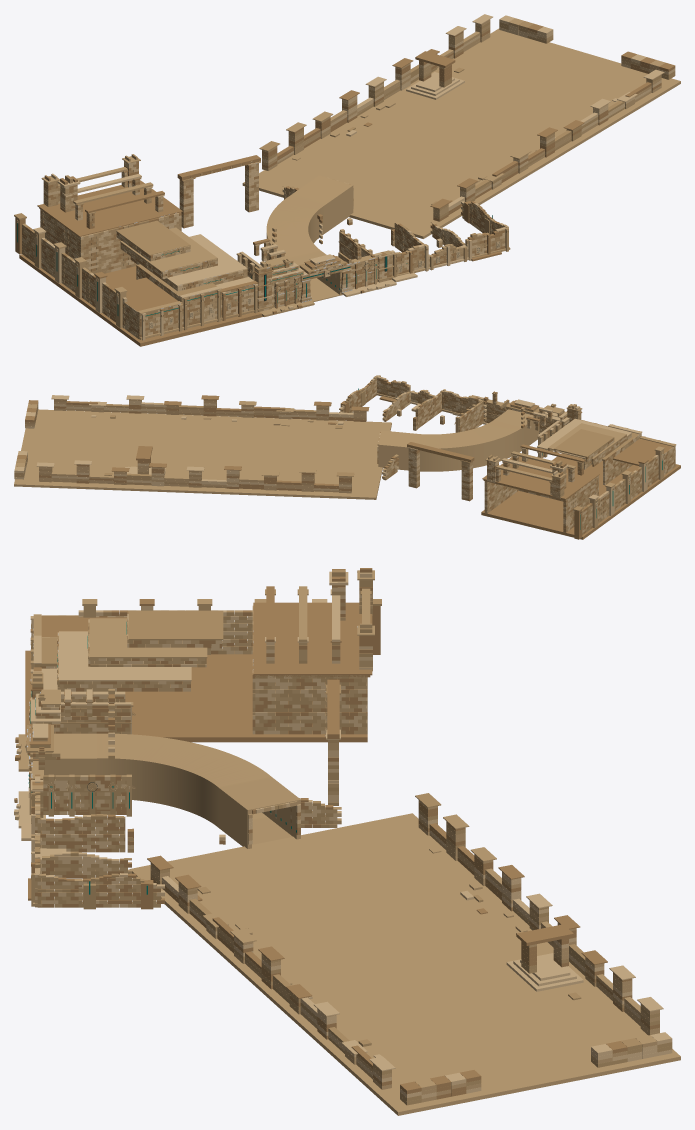
The model's file is Ruins_Field_Alpha_Intact.obj.
3 renders of one model, top to bottom at view 1: azimuth 30°, elevation 25°; view 2: azimuth 150°, elevation 25°; view 3: azimuth 270°, elevation 25°, orthographic. The views are drawn at different scales.
Parts seen in each view (by area): view 1: Ruins_Field_Alpha_Intact; view 2: Ruins_Field_Alpha_Intact; view 3: Ruins_Field_Alpha_Intact.
Part boxes in pixels (x1=…): Ruins_Field_Alpha_Intact: x1=14, y1=14, x2=680, y2=346; Ruins_Field_Alpha_Intact: x1=14, y1=375, x2=680, y2=539; Ruins_Field_Alpha_Intact: x1=14, y1=568, x2=680, y2=1115.
Size of the model in its own units: 1606 by 182 by 975.
